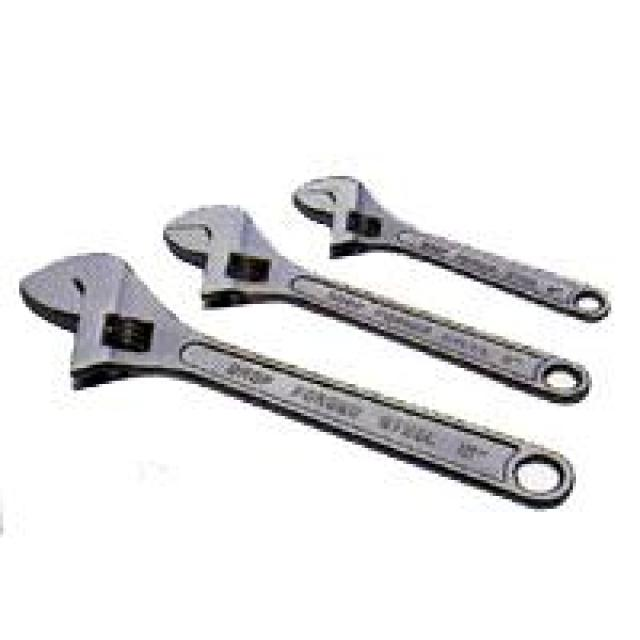wrench: (0, 244, 573, 505), (291, 146, 614, 270)
